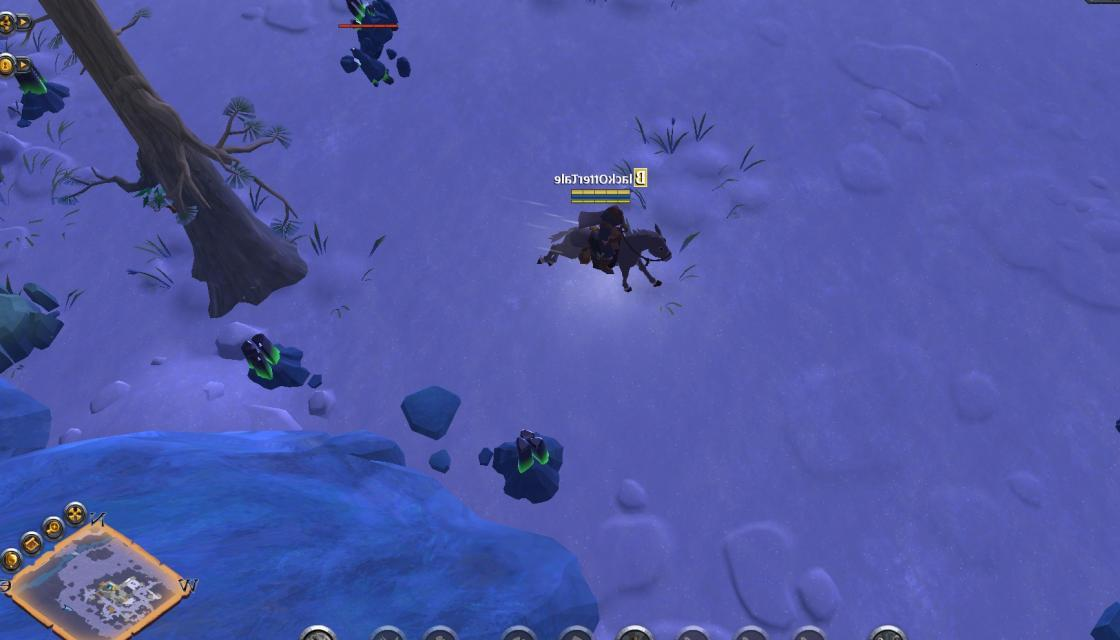sandstone: (0, 275, 67, 377)
tinore: (490, 431, 574, 504), (239, 330, 316, 394), (10, 51, 68, 130)
